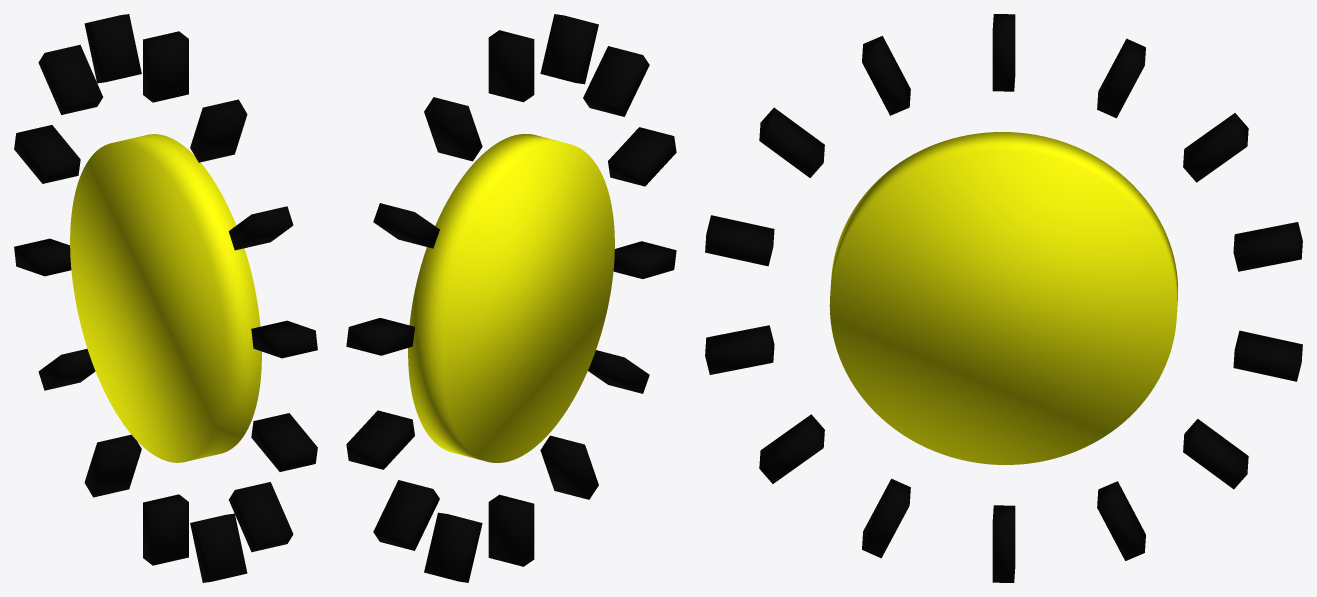
Rendered from sunny.glb.
3 renders of one model, left to right at view 1: azimuth 30°, elevation 25°; view 2: azimuth 150°, elevation 25°; view 3: azimuth 270°, elevation 25°, orthographic. The views are drawn at different scales.
Visible parts, largest first — view 1: Sunny, Sunny.001; view 2: Sunny, Sunny.001; view 3: Sunny, Sunny.001.
Part boxes in pixels (left/top/right/bottom): Sunny: left=70, top=134, right=261, bottom=462; Sunny.001: left=14, top=14, right=317, bottom=582; Sunny: left=408, top=134, right=614, bottom=462; Sunny.001: left=346, top=14, right=676, bottom=582; Sunny: left=829, top=132, right=1177, bottom=464; Sunny.001: left=705, top=14, right=1302, bottom=582.
Size of the model in its own units: 6.87 by 69.9 by 68.82.
